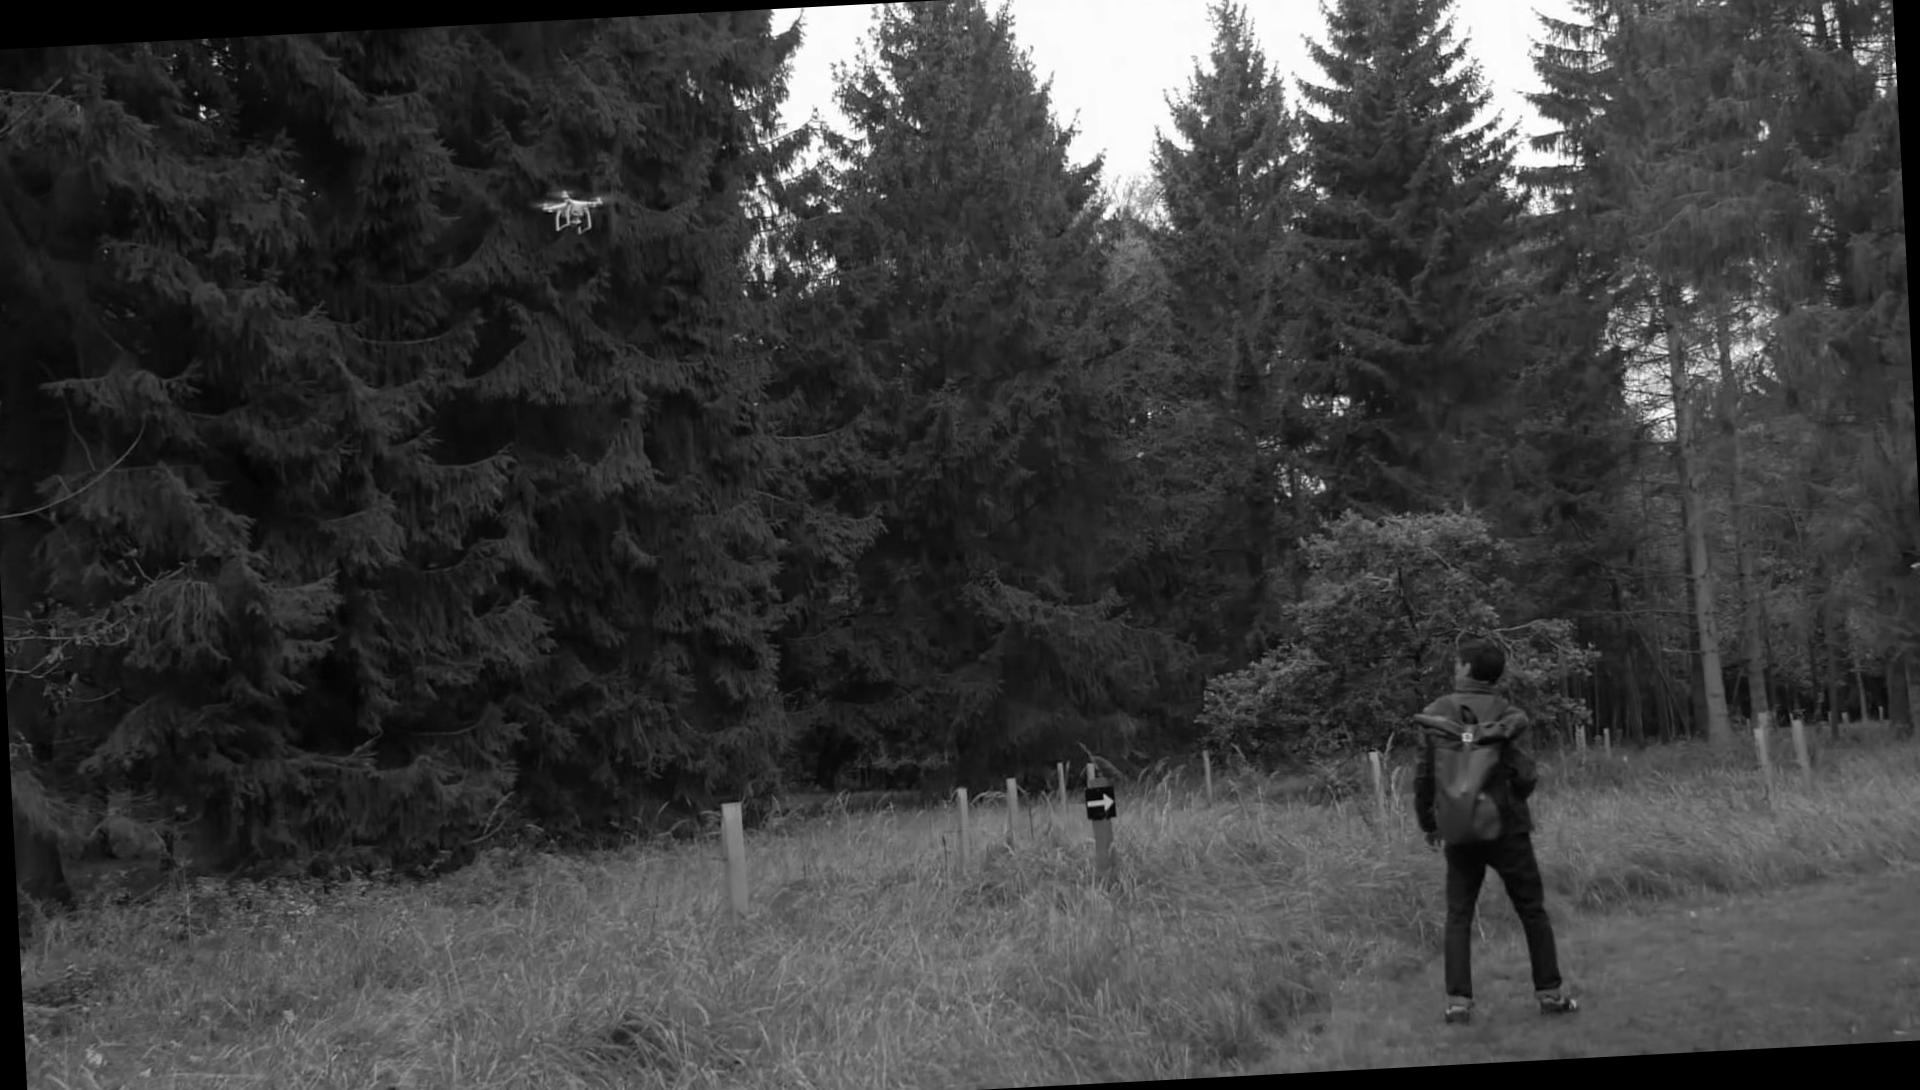drone: (530, 179, 608, 239)
